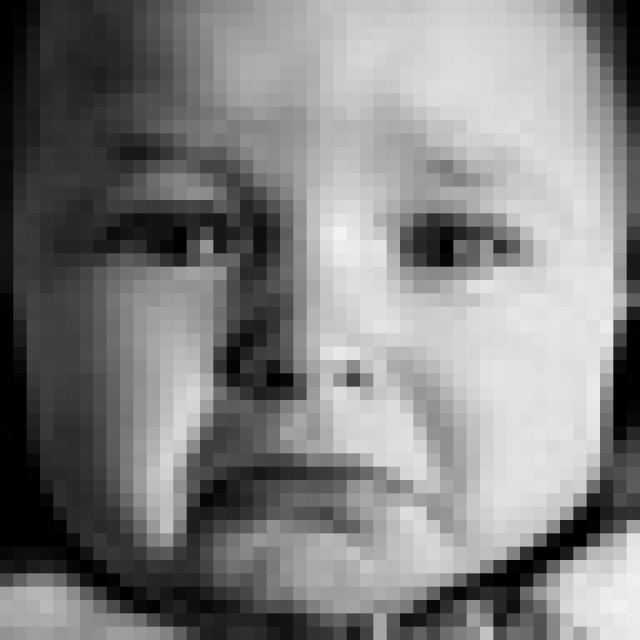sad: (65, 121, 553, 570)
